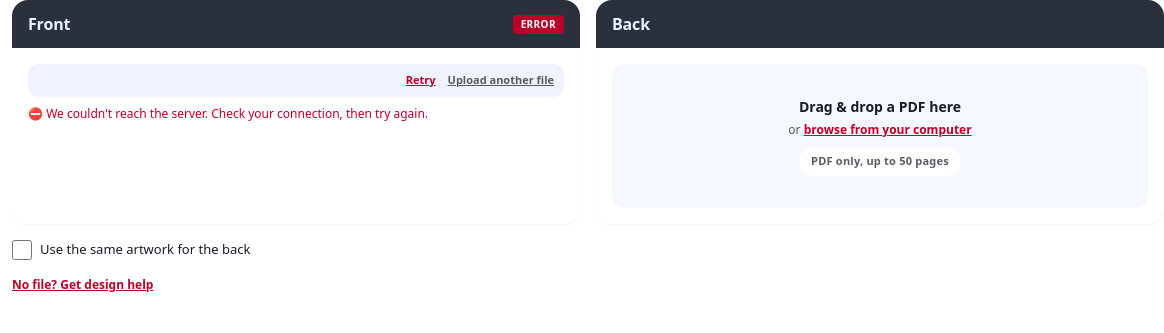
Test case: ArtworkSlots reloading a draft's Artwork › shows Retry on a card that couldn't be reloaded (not a blank slot) and fills it once it can
The width and height of the screenshot is (1164, 333).
Expected: the text "We couldn't reach the server. Check your connection, then try again." is shown, [46, 104, 428, 122]
Click the button "Retry": [421, 80] box [406, 72, 436, 88]
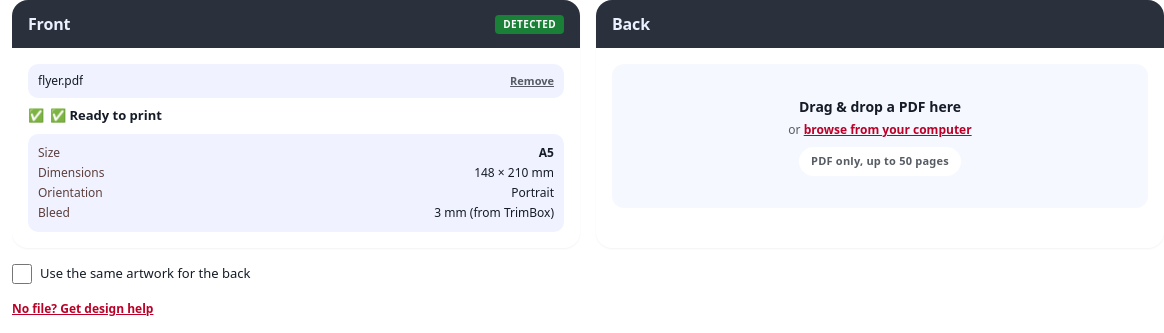
Result: the text "We couldn't reach the server. Check your connection, then try again." is gone
Result: the text "flyer.pdf" is shown at [38, 72, 83, 90]
